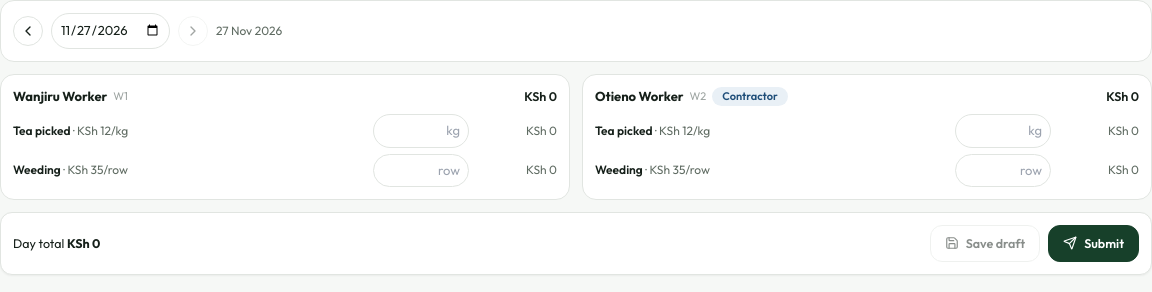
Test: daily entry › lists workers paid by work, with the kinds of work in use, and works out amounts as you type
This screenshot has width=1152, height=292.
Expected: the text "Wanjiru Worker" is shown, [13,86,107,106]
Expected: the text "Contractor" is shown, [712,87,788,106]
Type "42.5" into the field named "Wanjiru Worker Tea picked".
click(421, 131); type("42.5")  # box [373,114,469,148]
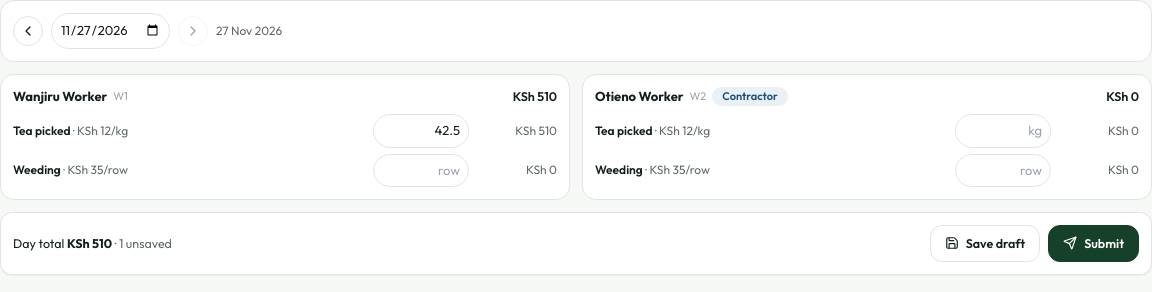
Type "2" into the field named "Wanjiru Worker Weeding".
click(421, 170); type("2")  # box [373,154,469,187]
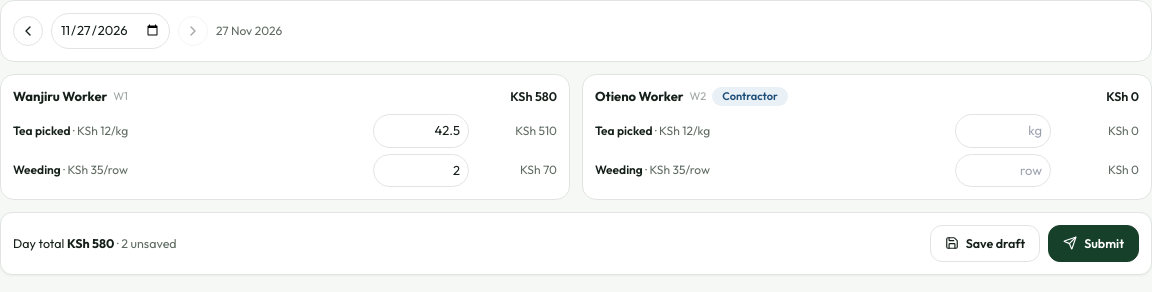
Now the text named "Wanjiru Worker total" reads "KSh 580", box [510,88,557,104]
Now the text "Day total KSh 580 · 2 unsaved" is shown, box [13,234,177,253]
Now the text "· 2 unsaved" is shown, box [114,235,177,251]
